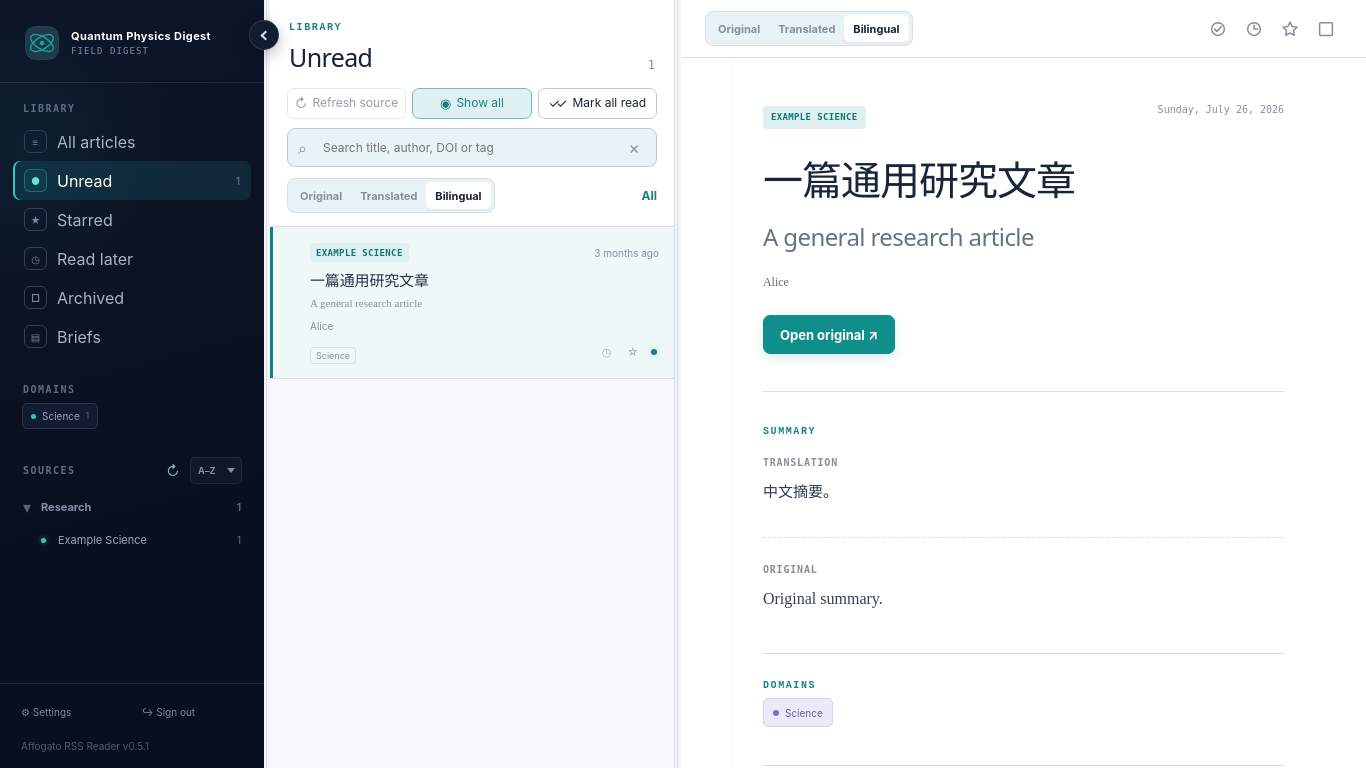
it: Affogato RSS Reader › marks a clicked timeline card as read and updates unread counts
Expected: the button "● Unread 1" is shown, 13,161 -> 251,200
Click the 2nd heading "一篇通用研究文章" at [369, 280], box 310,271 -> 429,290
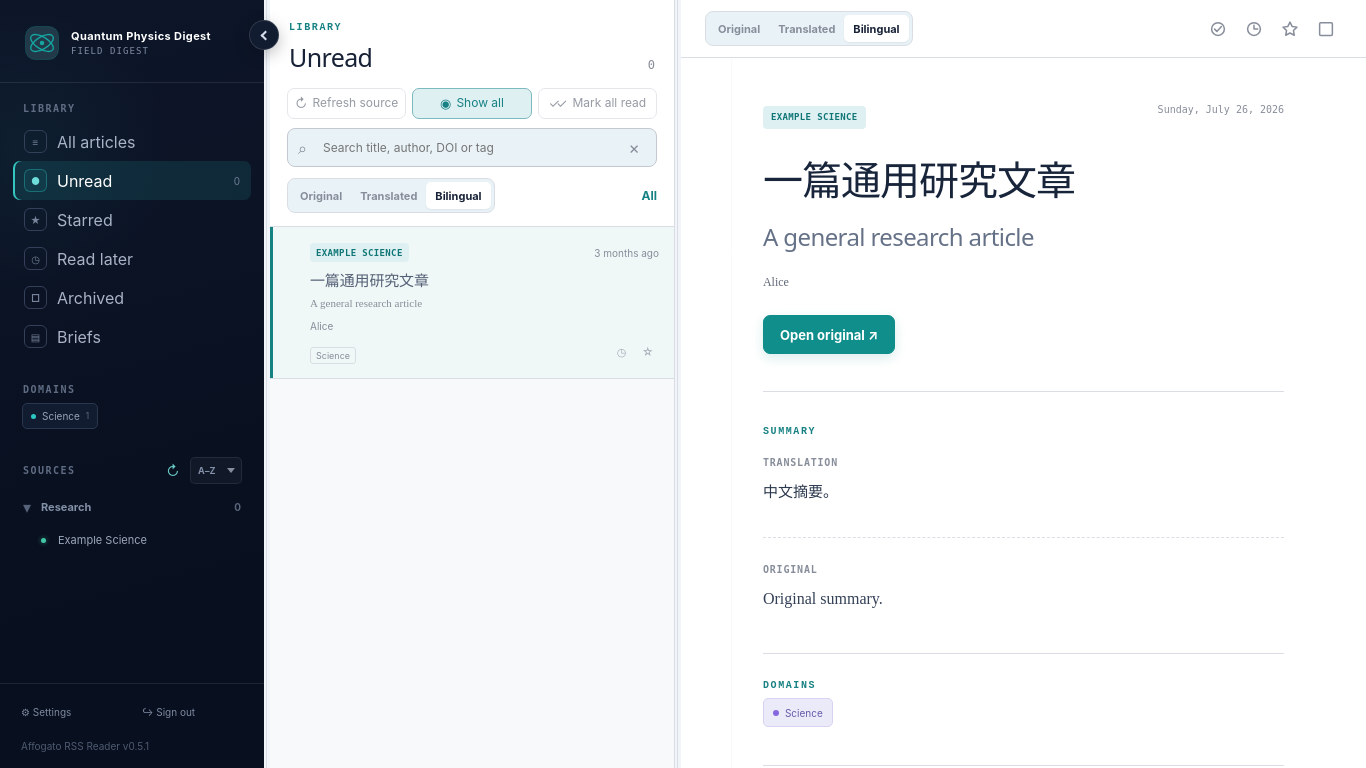
Expected: the button "Example Science" is shown, 13,523 -> 251,557
Result: the button "● Unread 0" is shown at 13,161 -> 251,200
